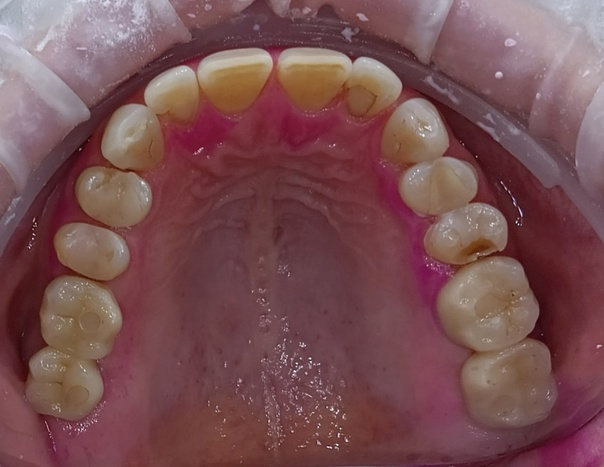UL1BC_healthy: (395, 164, 475, 218)
UL1M_healthy: (435, 264, 534, 351)
UL2BC_decay: (419, 205, 512, 266)
UL2M_healthy: (461, 348, 549, 435)
ULCI_healthy: (275, 38, 351, 114)
ULC_healthy: (376, 112, 440, 167)
ULLI_healthy: (339, 65, 397, 116)
UR1BC_healthy: (82, 164, 150, 233)
UR1M_healthy: (38, 276, 117, 354)
UR2BC_healthy: (55, 220, 134, 286)
UR2M_healthy: (19, 349, 101, 421)
URCI_healthy: (200, 44, 272, 117)
URC_healthy: (102, 104, 166, 164)
URLI_healthy: (146, 66, 198, 122)
